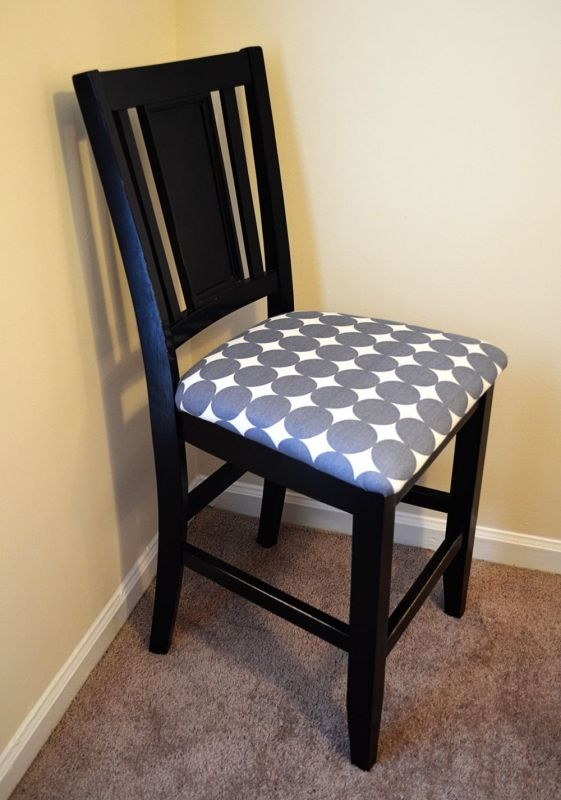chair: (53, 31, 523, 784)
